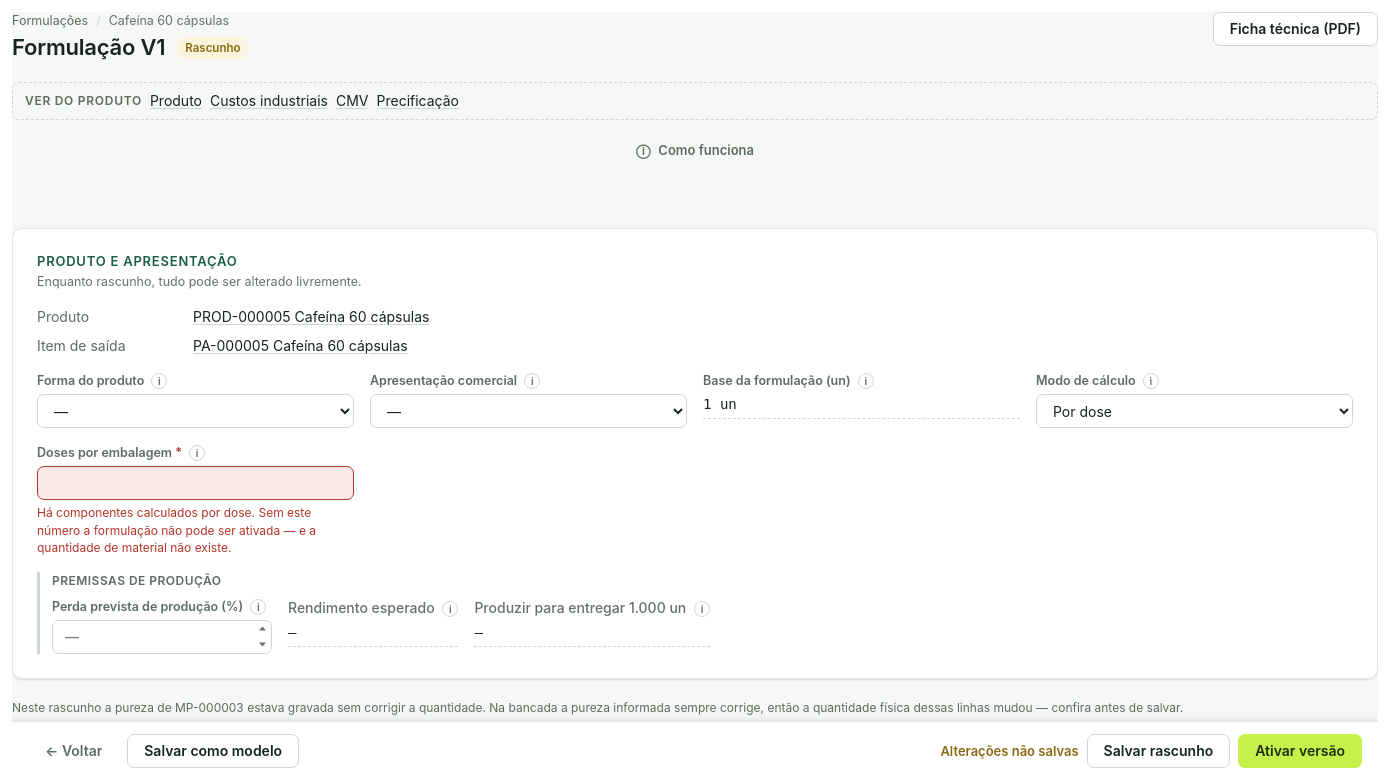
Scenario: Doses por embalagem › explica para que serve no ⓘ, sem frase permanente sob o campo
This screenshot has width=1390, height=780.
Expected: the link "PROD-000005 Cafeína 60 cápsulas" is shown, [193,308,429,325]
Click the button named "Ajuda sobre Doses por embalagem" at (197, 453), box [189,445,205,461]
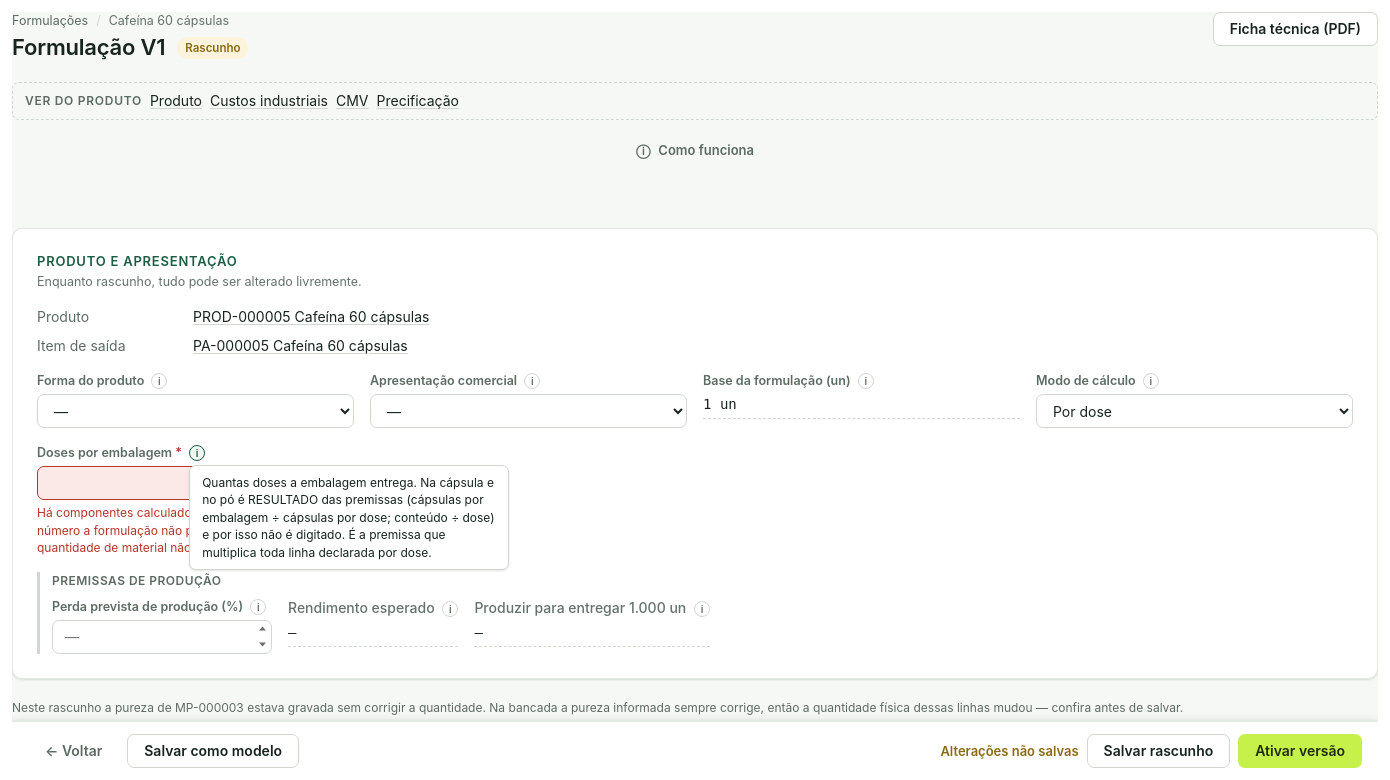
Expected: the text "multiplica toda linha declarada por dose" is shown, [202,475,495,560]
